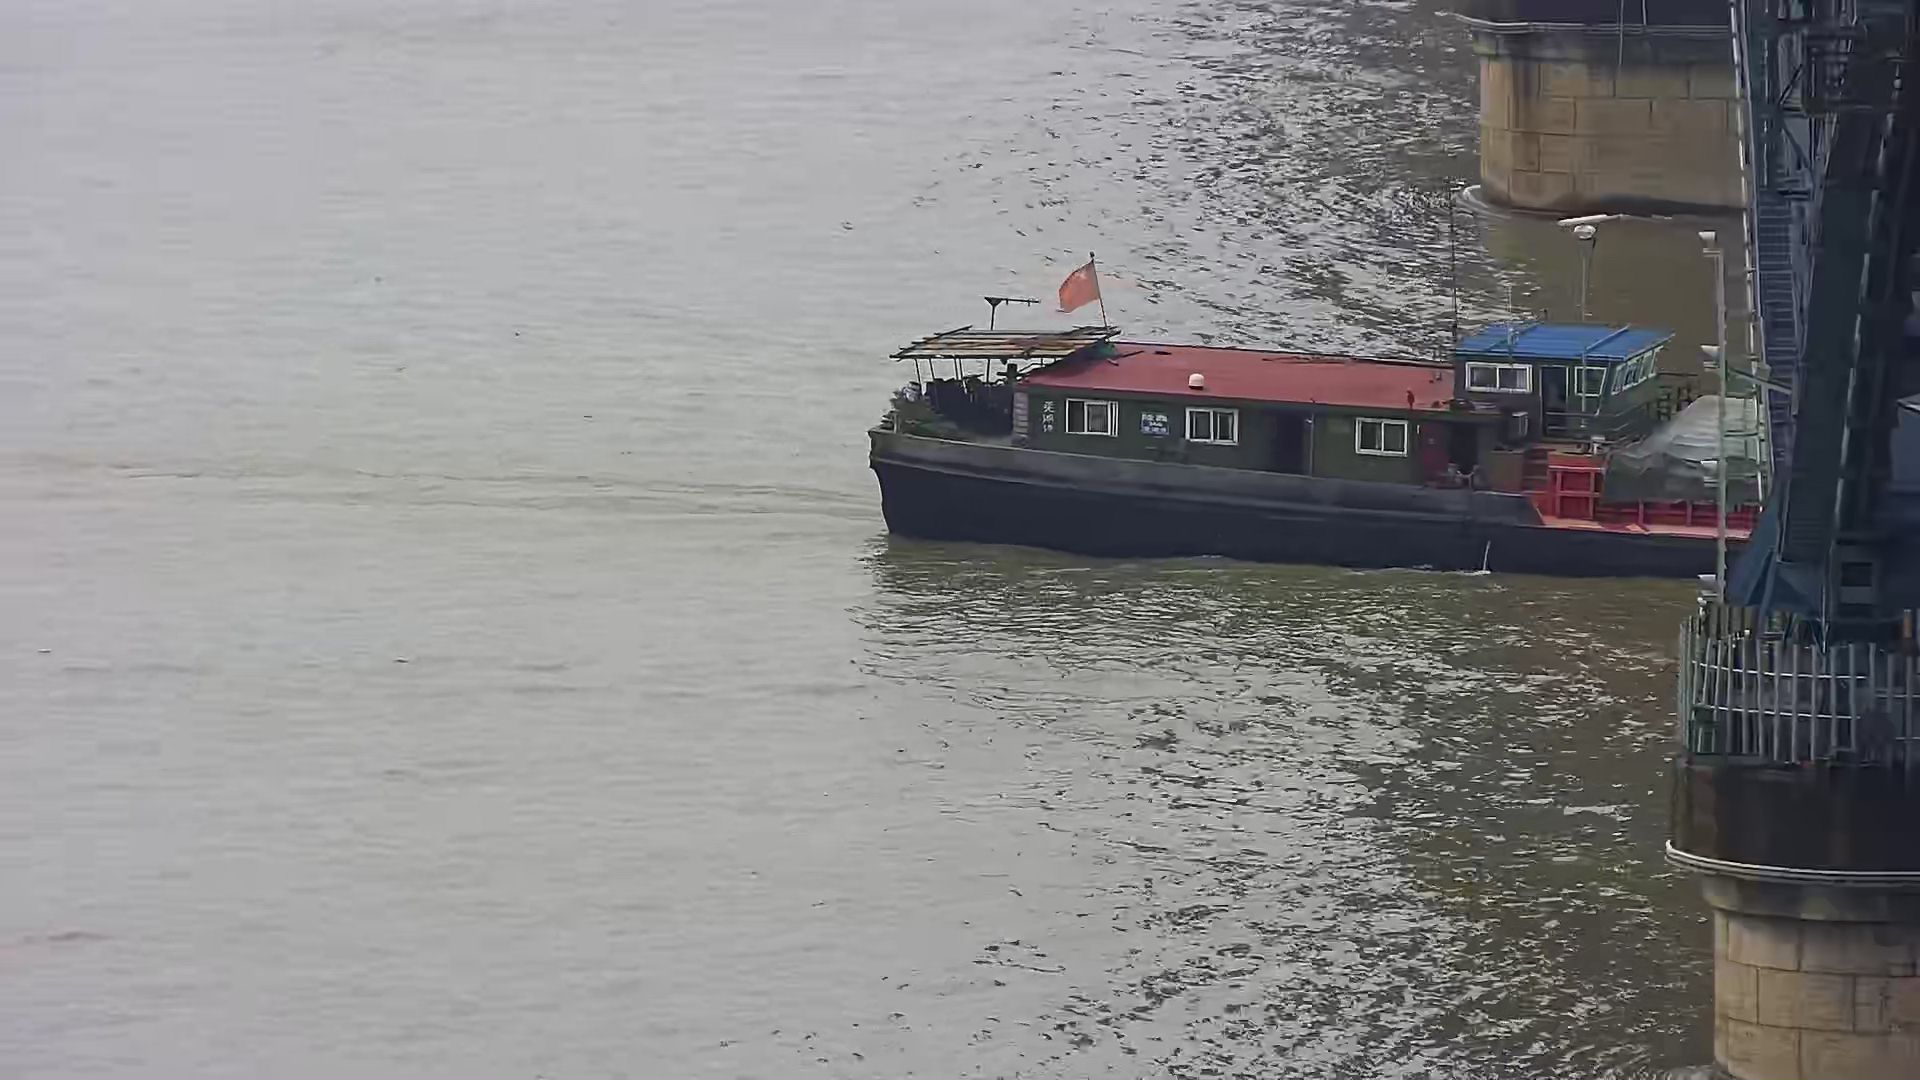bridge: (1429, 3, 1917, 1080)
ship: (855, 284, 1780, 593)
